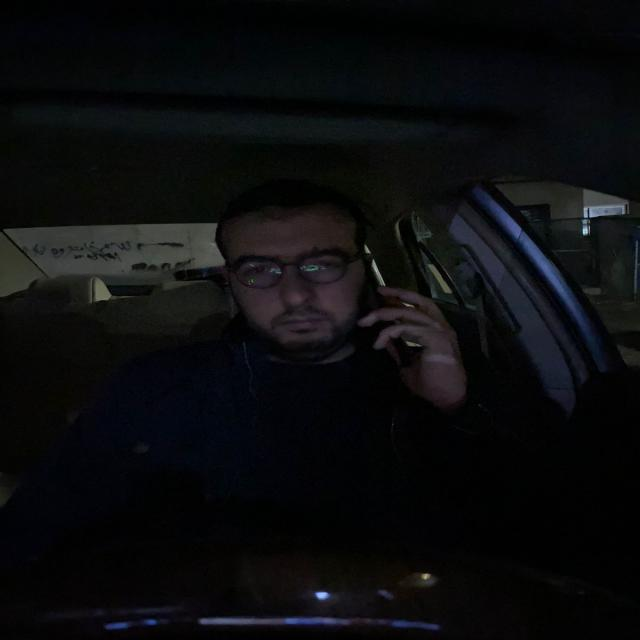mobile: (366, 276, 432, 389)
person: (206, 188, 368, 372)
